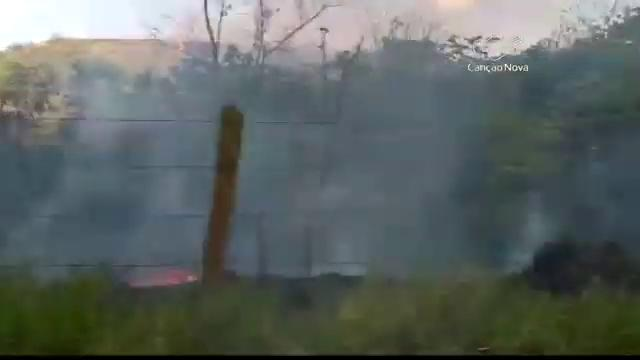smoke: (275, 100, 451, 246), (78, 109, 205, 252)
